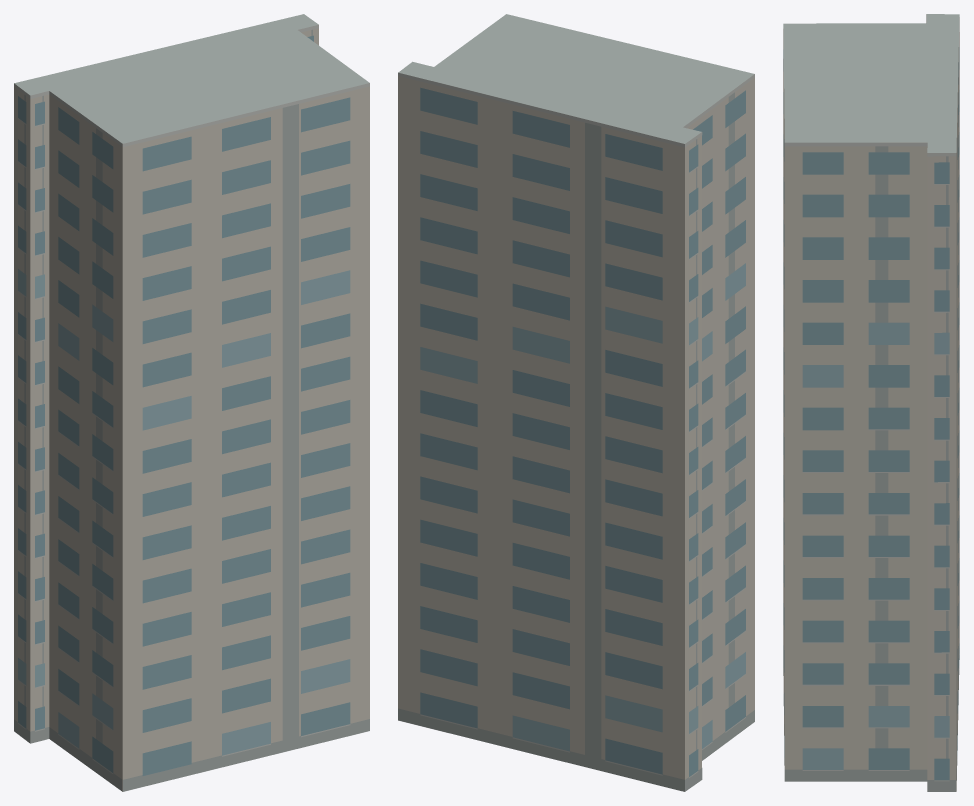
Rendered from survey-upis-32742041.glb.
The picture shows the model from 3 angles, left to right: view 1: azimuth 30°, elevation 25°; view 2: azimuth 150°, elevation 25°; view 3: azimuth 270°, elevation 25°; orthographic projection.
Parts seen in each view (by area): view 1: survey-upis-32742041.tmp; view 2: survey-upis-32742041.tmp; view 3: survey-upis-32742041.tmp.
Boxes of the visible parts, bbox=[...] form: survey-upis-32742041.tmp: bbox=[14, 14, 369, 791]; survey-upis-32742041.tmp: bbox=[398, 14, 754, 791]; survey-upis-32742041.tmp: bbox=[783, 14, 959, 791].
Bounding box in the file's own units: 21.38 × 45.75 × 11.44.
